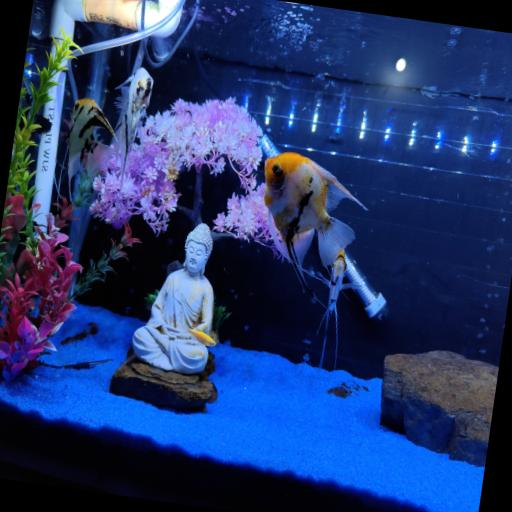Fish: (264, 152, 365, 299), (318, 251, 357, 370), (114, 68, 152, 182), (67, 99, 114, 186), (189, 329, 214, 347)
